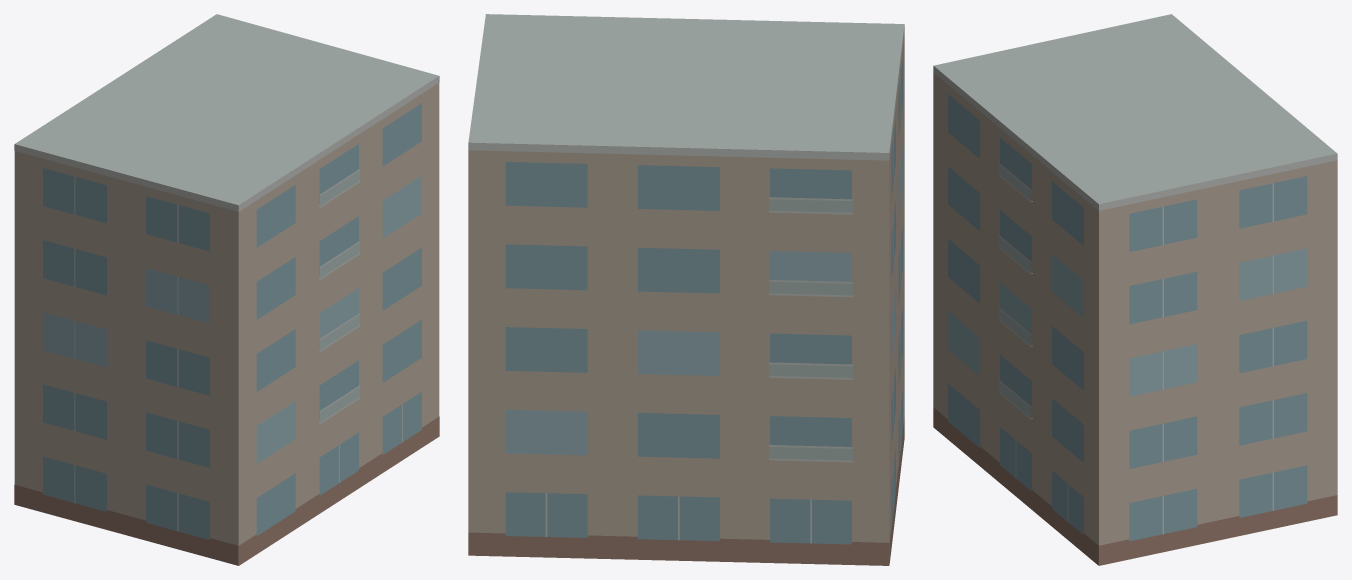
Rendered from survey-upis-32891861.glb.
3 renders of one model, left to right at view 1: azimuth 30°, elevation 25°; view 2: azimuth 150°, elevation 25°; view 3: azimuth 270°, elevation 25°, orthographic. The views are drawn at different scales.
Visible parts, largest first — view 1: survey-upis-32891861.tmp; view 2: survey-upis-32891861.tmp; view 3: survey-upis-32891861.tmp.
Boxes of the visible parts, x1,y1,x2,y2 form: survey-upis-32891861.tmp: (14,14,439,565); survey-upis-32891861.tmp: (468,14,904,565); survey-upis-32891861.tmp: (933,14,1337,565).
Bounding box in the file's own units: 14.9 × 13.2 × 13.38.
